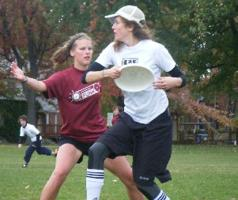person: (81, 5, 187, 199)
